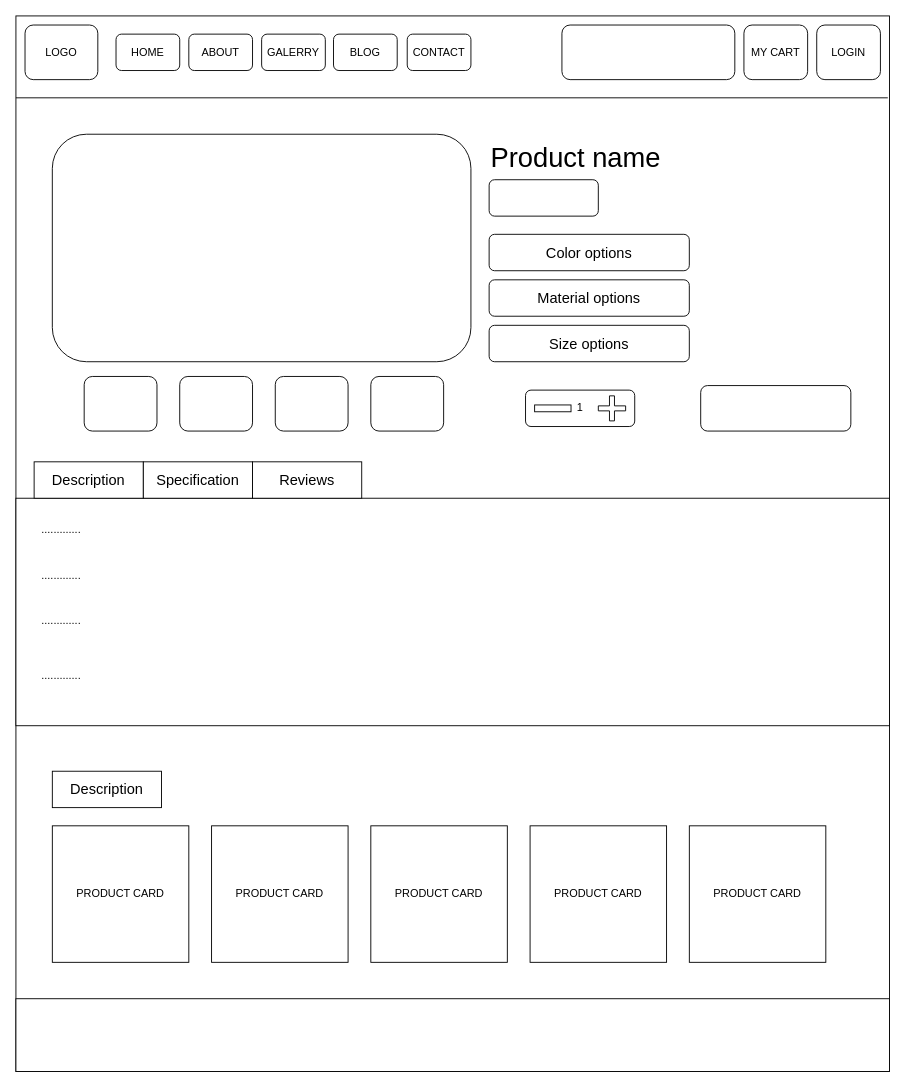
This 905x1087 diagram has some shape labels left out. Here are the shapes that lost their labels. From the top down, the centre of each, then its label:
At pixel 648 52: "SEARCH".
At pixel 543 197: "View price button".
At pixel 261 247: "PRODUCT PICTURE".
At pixel 775 408: "Add to cart button".
At pixel 452 1035: "FOOTER".
